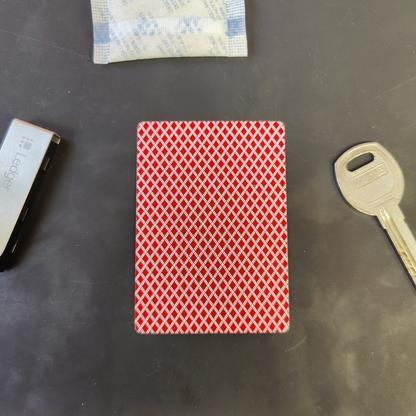card: (119, 106, 300, 345)
